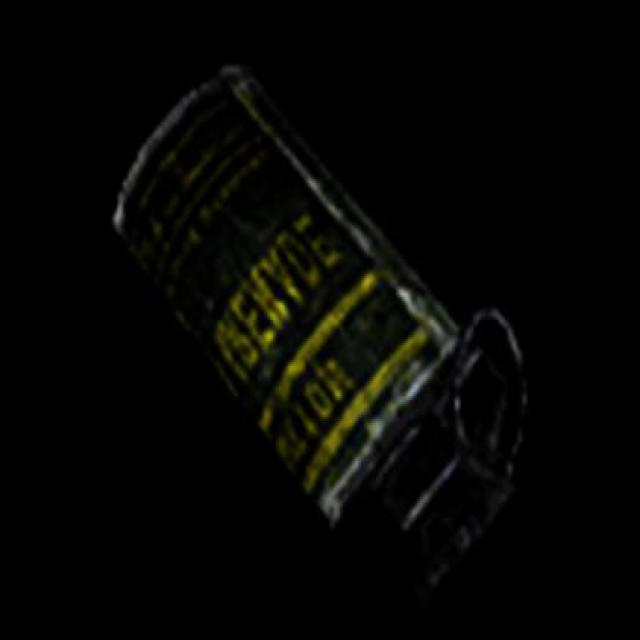grenade: (115, 65, 530, 605)
